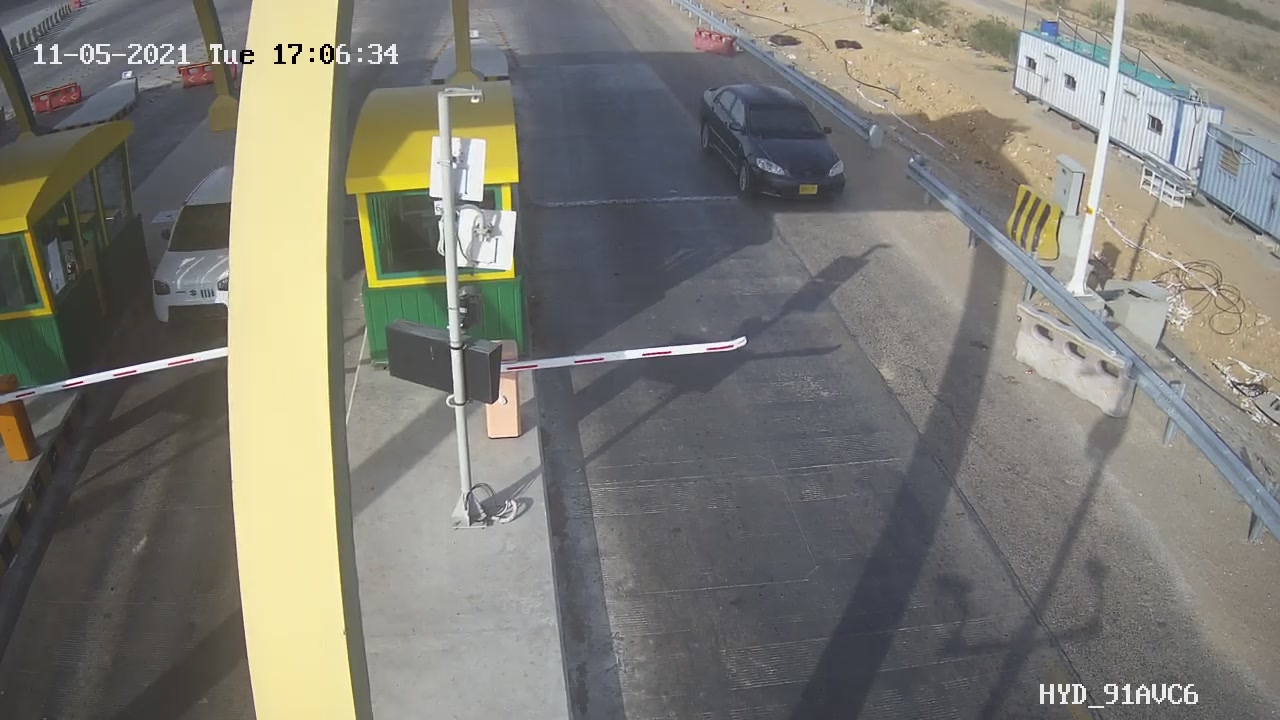F1: (679, 62, 864, 226)
